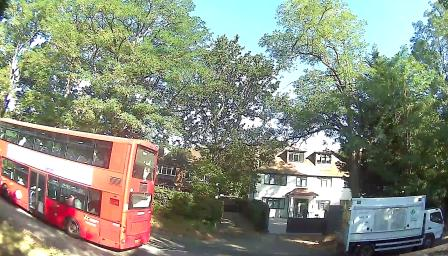Cars: (0, 116, 159, 252), (337, 192, 444, 252)
